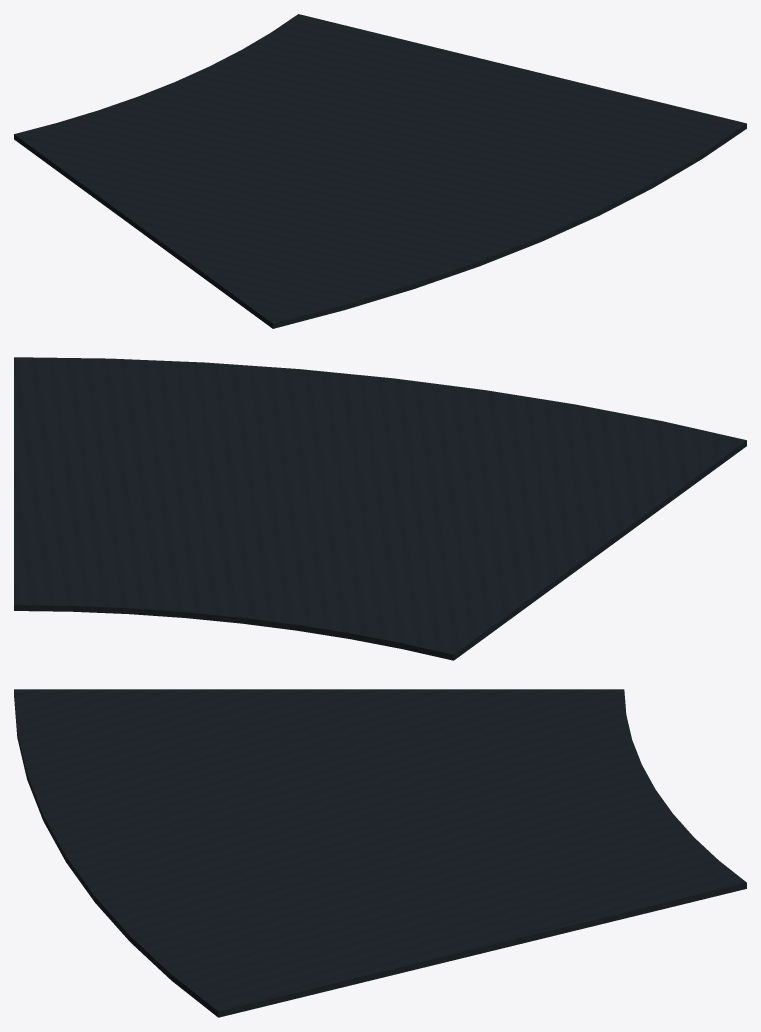
The model's file is Transit_Road_6L_Curve30_R36_Surface.glb.
3 renders of one model, top to bottom at view 1: azimuth 30°, elevation 25°; view 2: azimuth 150°, elevation 25°; view 3: azimuth 270°, elevation 25°, orthographic. The views are drawn at different scales.
Parts seen in each view (by area): view 1: Transit_Road_6L_Curve30_R36_Surface; view 2: Transit_Road_6L_Curve30_R36_Surface; view 3: Transit_Road_6L_Curve30_R36_Surface.
Boxes of the visible parts, box(x1,y1,x2,y2) form: Transit_Road_6L_Curve30_R36_Surface: box(14, 14, 746, 328); Transit_Road_6L_Curve30_R36_Surface: box(14, 357, 746, 660); Transit_Road_6L_Curve30_R36_Surface: box(14, 689, 746, 1017).
Bounding box in the file's own units: 22.5 × 0.2 × 21.62.
Materials: 1 (1 with a texture image).
